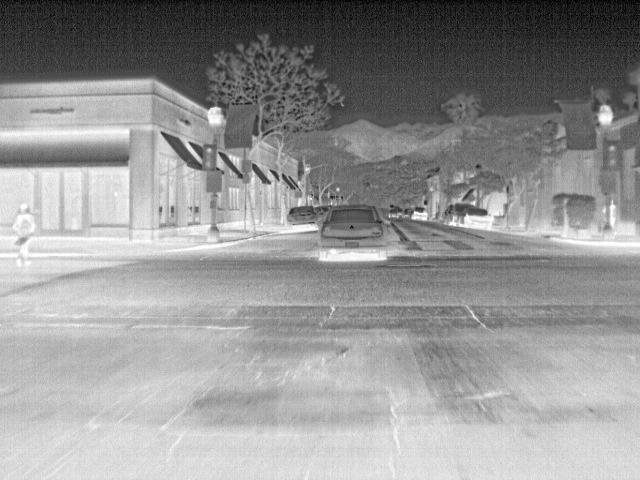car: (319, 204, 386, 262), (288, 205, 320, 230), (463, 209, 494, 228), (451, 204, 478, 225), (412, 206, 429, 222), (387, 208, 402, 221), (404, 208, 416, 220)
person: (11, 201, 38, 270)
